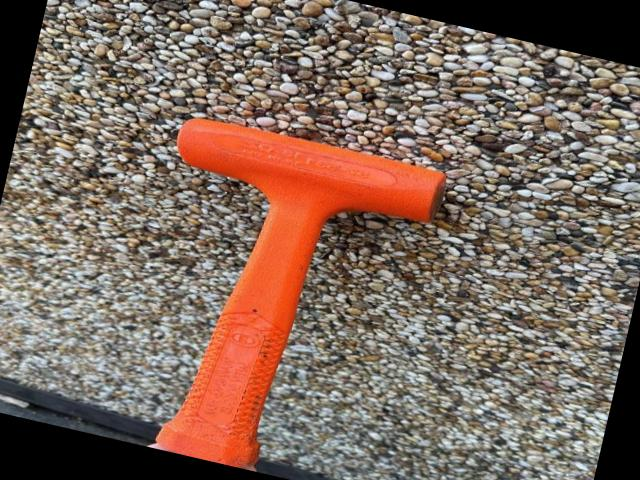hammer: (105, 109, 450, 480)
